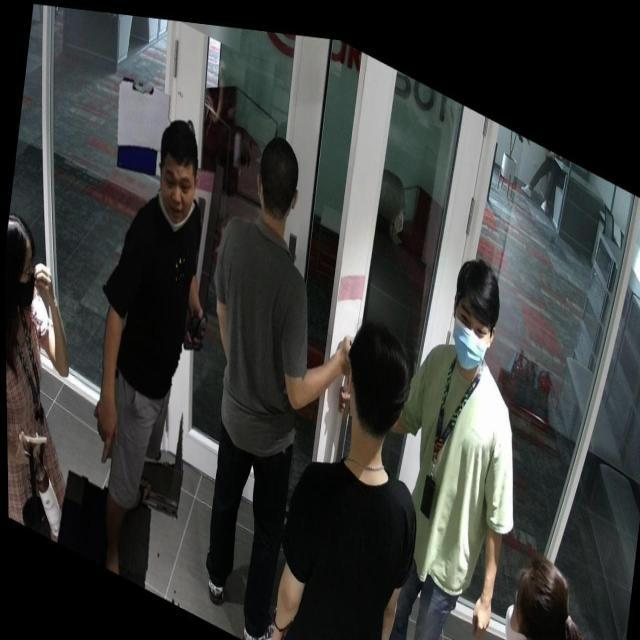hairnet: (152, 190, 196, 234)
mask: (451, 320, 489, 378)
